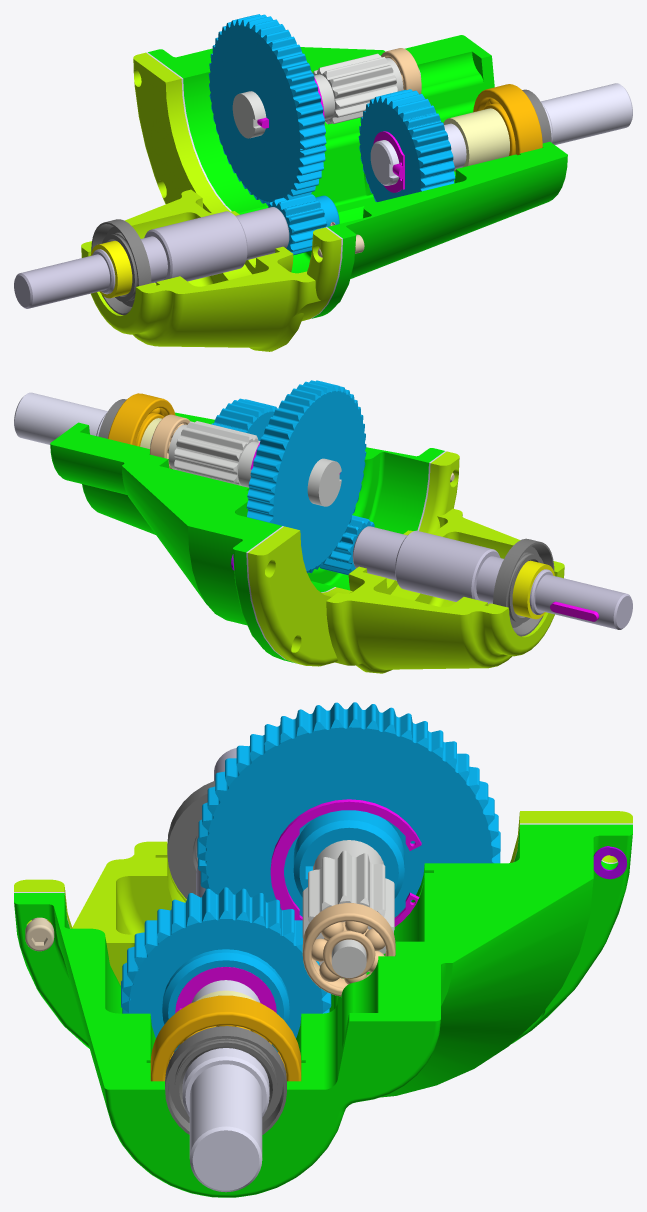
File: Getriebe.gltf
The picture shows the model from 3 angles, top to bottom: view 1: azimuth 30°, elevation 25°; view 2: azimuth 150°, elevation 25°; view 3: azimuth 270°, elevation 25°; orthographic projection. The views are drawn at different scales.
Visible parts, largest first — view 1: 1_Gehaeuse, 2_Lagerdeckel, 7_Stirnrad, 5_Antriebswelle, 8_Stirnrad, Abtriebswelle, 4_Ritzelwelle, Rillenkugellager_6205, Distanzbuchse_9, 6_Ritzel, 22RWDR_30_50, 10_Buchse (+4 smaller); view 2: 2_Lagerdeckel, 1_Gehaeuse, 7_Stirnrad, 5_Antriebswelle, 4_Ritzelwelle, Abtriebswelle, 22RWDR_30_50, Rillenkugellager_6205, 8_Stirnrad, 6_Ritzel, 10_Buchse, 13_Rillenkugellager_6201_12mm (+2 smaller); view 3: 1_Gehaeuse, 7_Stirnrad, 8_Stirnrad, Abtriebswelle, 2_Lagerdeckel, 4_Ritzelwelle, Rillenkugellager_6205, 13_Rillenkugellager_6201_12mm, 21_RWDR_30, Sicherungsring, 22RWDR_30_50, 24_Passscheibe (+2 smaller).
Part boxes in pixels (box(x1,y1,x2,y2)): 1_Gehaeuse: box(148, 35, 567, 318); 2_Lagerdeckel: box(81, 52, 341, 351); 7_Stirnrad: box(208, 14, 326, 205); 5_Antriebswelle: box(14, 207, 289, 308); 8_Stirnrad: box(358, 89, 455, 201); Abtriebswelle: box(370, 83, 632, 185); 4_Ritzelwelle: box(232, 53, 421, 138); Rillenkugellager_6205: box(473, 84, 542, 155); Distanzbuchse_9: box(443, 108, 509, 171); 6_Ritzel: box(268, 194, 339, 255); 22RWDR_30_50: box(91, 219, 151, 315); 10_Buchse: box(90, 241, 132, 298); 2_Lagerdeckel: box(248, 451, 564, 673); 1_Gehaeuse: box(50, 412, 444, 663); 7_Stirnrad: box(246, 380, 366, 573); 5_Antriebswelle: box(352, 526, 632, 629); 4_Ritzelwelle: box(150, 421, 341, 506); Abtriebswelle: box(14, 392, 107, 444); 22RWDR_30_50: box(493, 538, 554, 636); Rillenkugellager_6205: box(108, 393, 175, 446); 8_Stirnrad: box(211, 398, 276, 440); 6_Ritzel: box(319, 515, 374, 575); 10_Buchse: box(512, 560, 554, 619); 13_Rillenkugellager_6201_12mm: box(150, 414, 190, 469); 1_Gehaeuse: box(14, 824, 632, 1197); 7_Stirnrad: box(197, 702, 500, 917); 8_Stirnrad: box(121, 887, 331, 1051); Abtriebswelle: box(182, 980, 269, 1192); 2_Lagerdeckel: box(14, 811, 632, 985); 4_Ritzelwelle: box(302, 840, 394, 978); Rillenkugellager_6205: box(150, 995, 301, 1081); 13_Rillenkugellager_6201_12mm: box(302, 903, 395, 996); 21_RWDR_30: box(165, 1026, 286, 1134); Sicherungsring: box(270, 799, 421, 926); 22RWDR_30_50: box(167, 780, 215, 899); 24_Passscheibe: box(175, 967, 276, 1012).
Size of what is drawn, in the model's own units: 0.3746 by 0.1695 by 0.2133.
